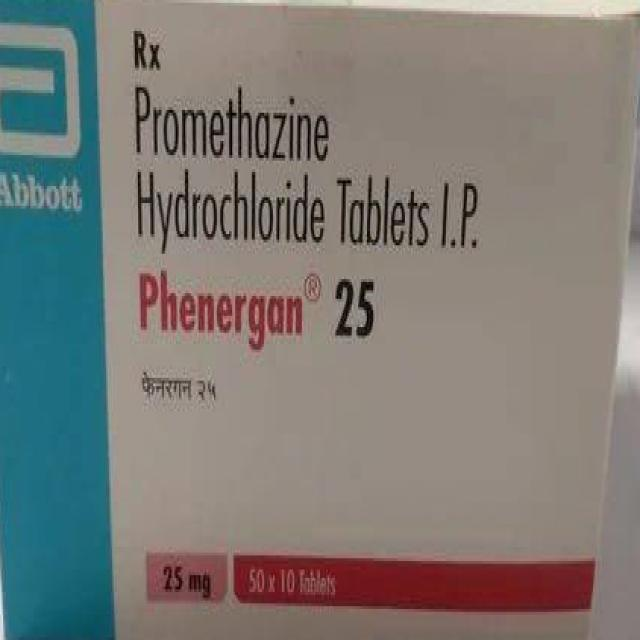drug-name: (130, 263, 380, 352)
